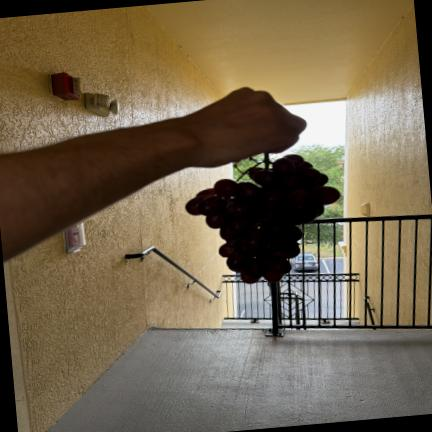grape_cluster: (186, 153, 340, 283)
